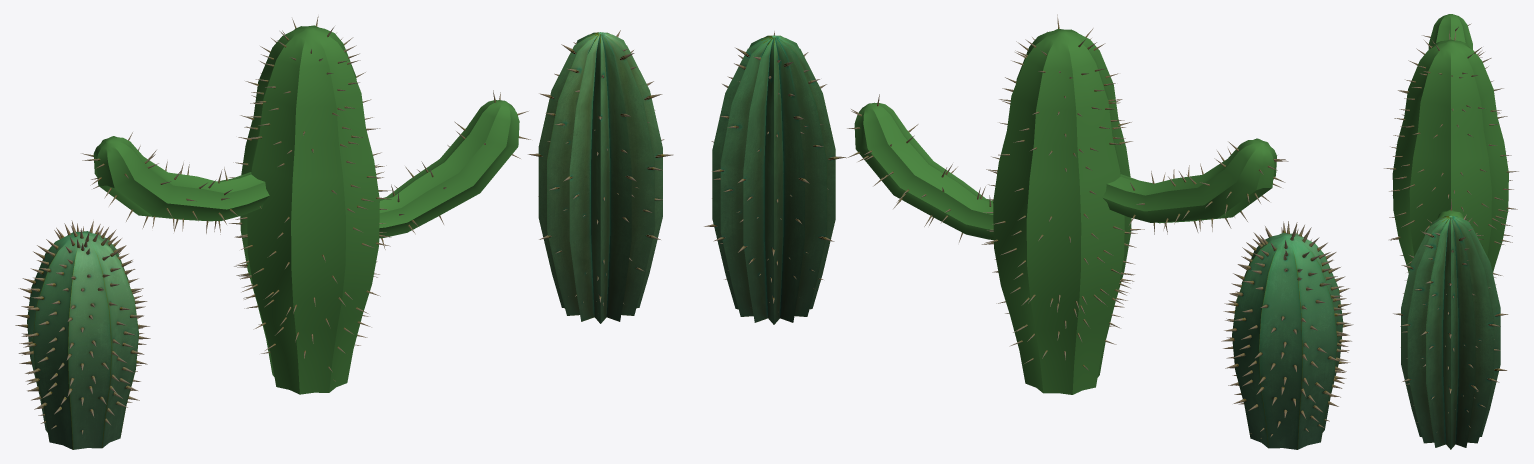
The model's file is Cactos.fbx.
3 renders of one model, left to right at view 1: azimuth 30°, elevation 25°; view 2: azimuth 150°, elevation 25°; view 3: azimuth 270°, elevation 25°, orthographic. The views are drawn at different scales.
Parts seen in each view (by area): view 1: Cacto_01, Cacto_02, Cacto_03; view 2: Cacto_01, Cacto_02, Cacto_03; view 3: Cacto_01, Cacto_02.
Boxes of the visible parts, x1,y1,x2,y2 form: Cacto_01: (81,16,530,394); Cacto_02: (528,30,673,323); Cacto_03: (15,220,150,449); Cacto_01: (846,14,1288,394); Cacto_02: (704,31,846,324); Cacto_03: (1221,221,1353,449); Cacto_01: (1384,14,1518,284); Cacto_02: (1393,214,1508,449).
Bounding box in the file's own units: 1913 × 1015 × 438.
